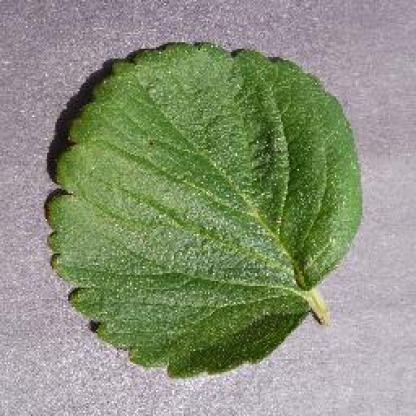healthy: (39, 34, 379, 384)
